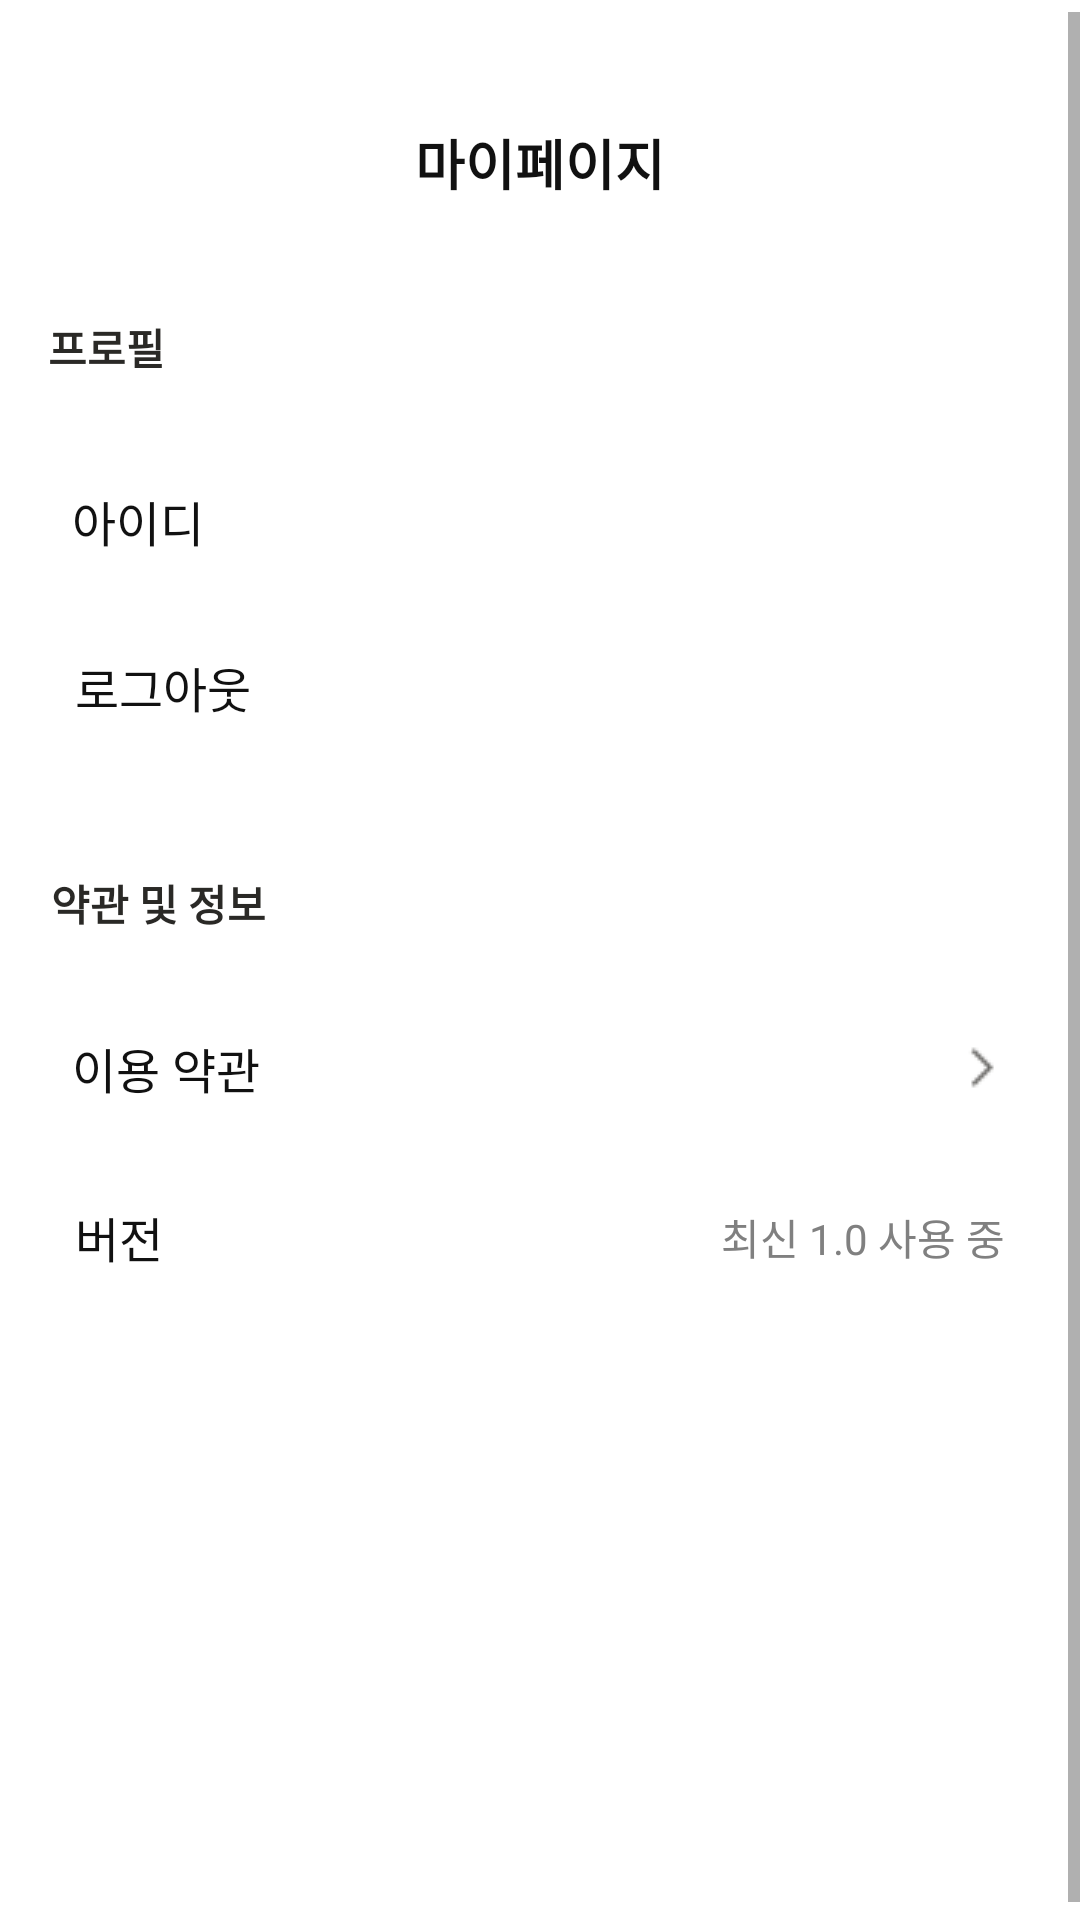

Point at icon controls on the screen. Image size 1080*1920, points as [x,y].
right arrow: [982,1067]
